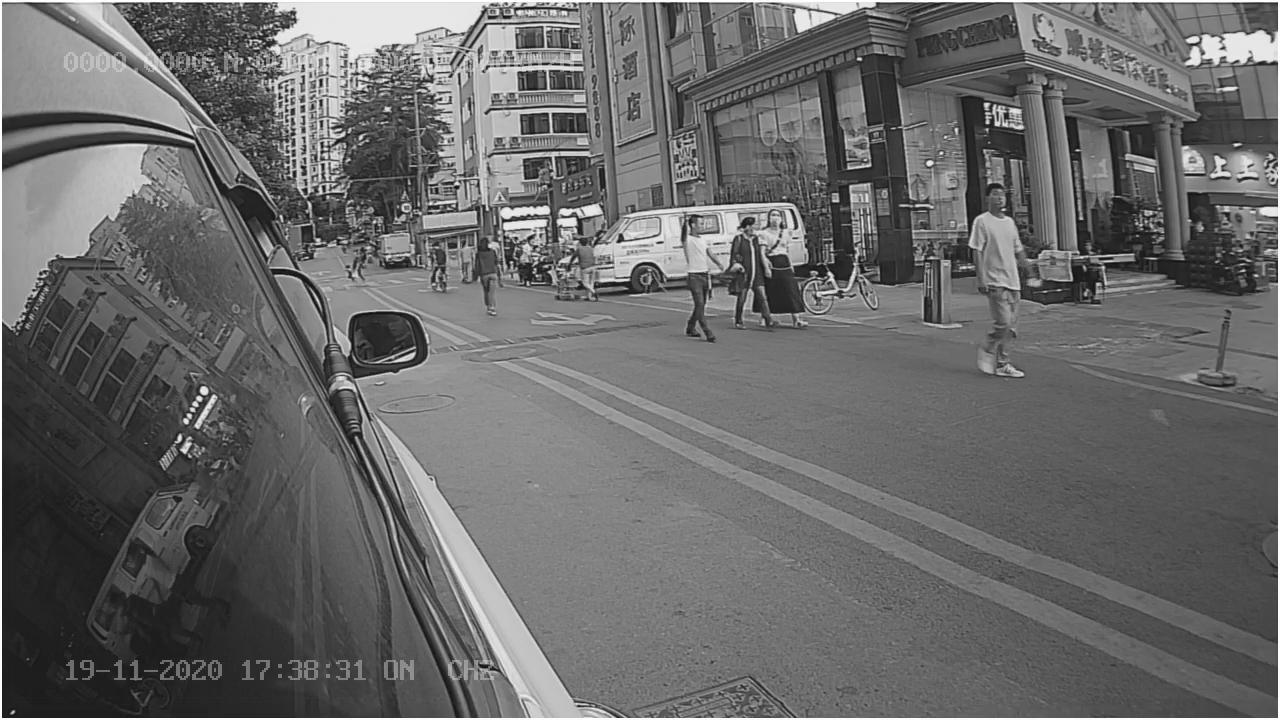person: (961, 180, 1037, 386)
